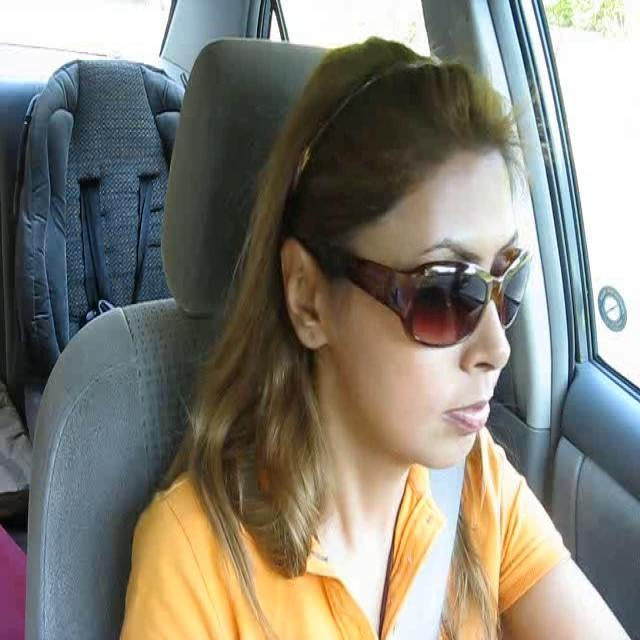close: (447, 389, 492, 438)
